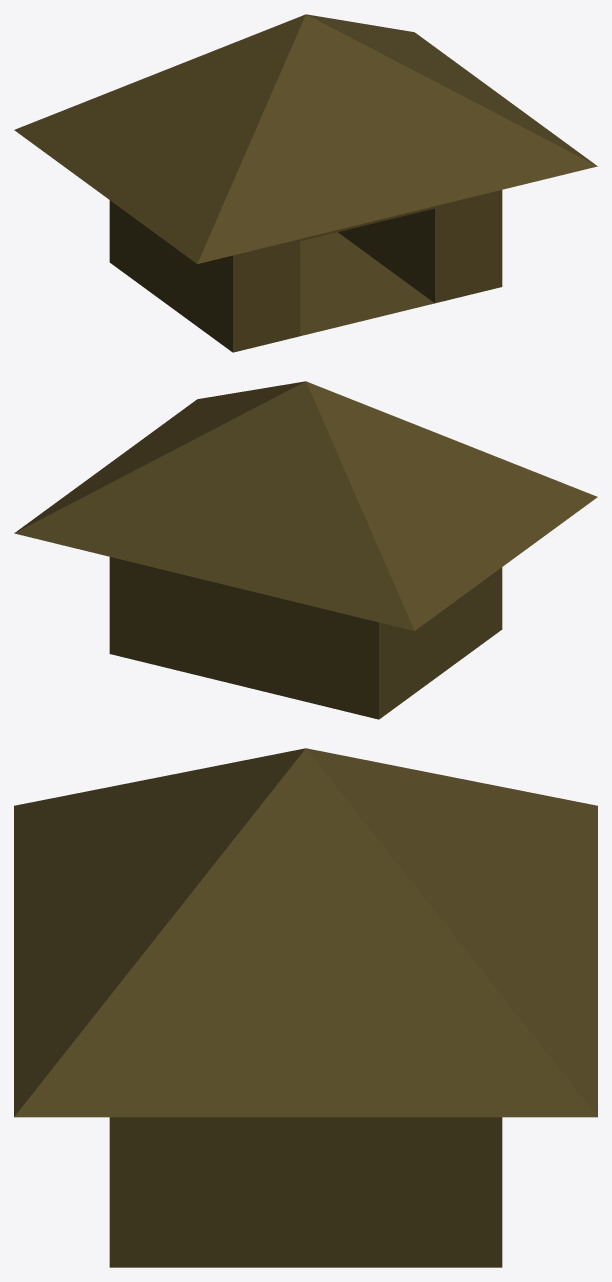
File: Garage.fbx
3 views of the same model, one above another, from view 1: azimuth 30°, elevation 25°; view 2: azimuth 150°, elevation 25°; view 3: azimuth 270°, elevation 25° (orthographic). The views are drawn at different scales.
Parts seen in each view (by area): view 1: Cube; view 2: Cube; view 3: Cube.
Boxes of the visible parts, x1,y1,x2,y2 form: Cube: [14, 14, 597, 352]; Cube: [14, 381, 597, 719]; Cube: [14, 748, 597, 1267].
Bounding box in the file's own units: 663 × 412 × 525.
